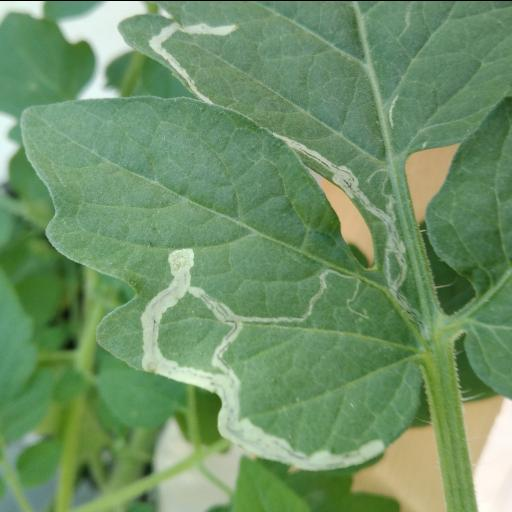disease_tomato: (14, 0, 422, 473)
